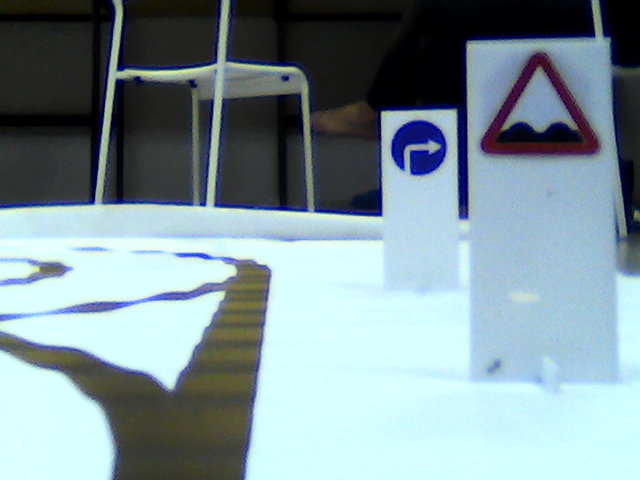Nerov: (481, 46, 604, 159)
Right: (389, 118, 451, 175)
